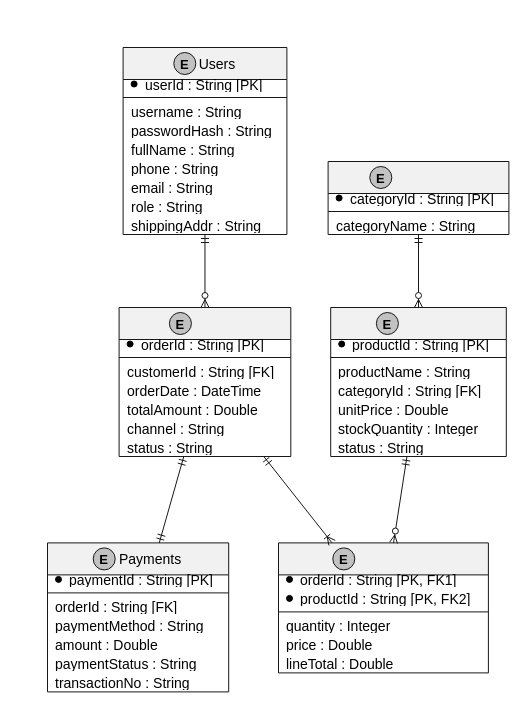
This 526x709 diagram has some shape labels left out. Each missing label, with the box of its shape:
Categories: (327, 160, 509, 234)
OrderItems: (278, 542, 488, 673)
Orders: (118, 306, 291, 456)
Products: (330, 306, 506, 456)
